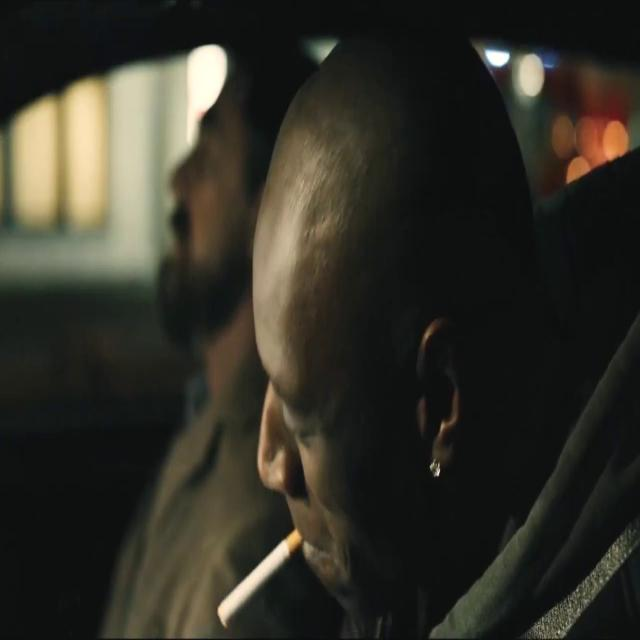Smooking: (200, 520, 314, 640)
